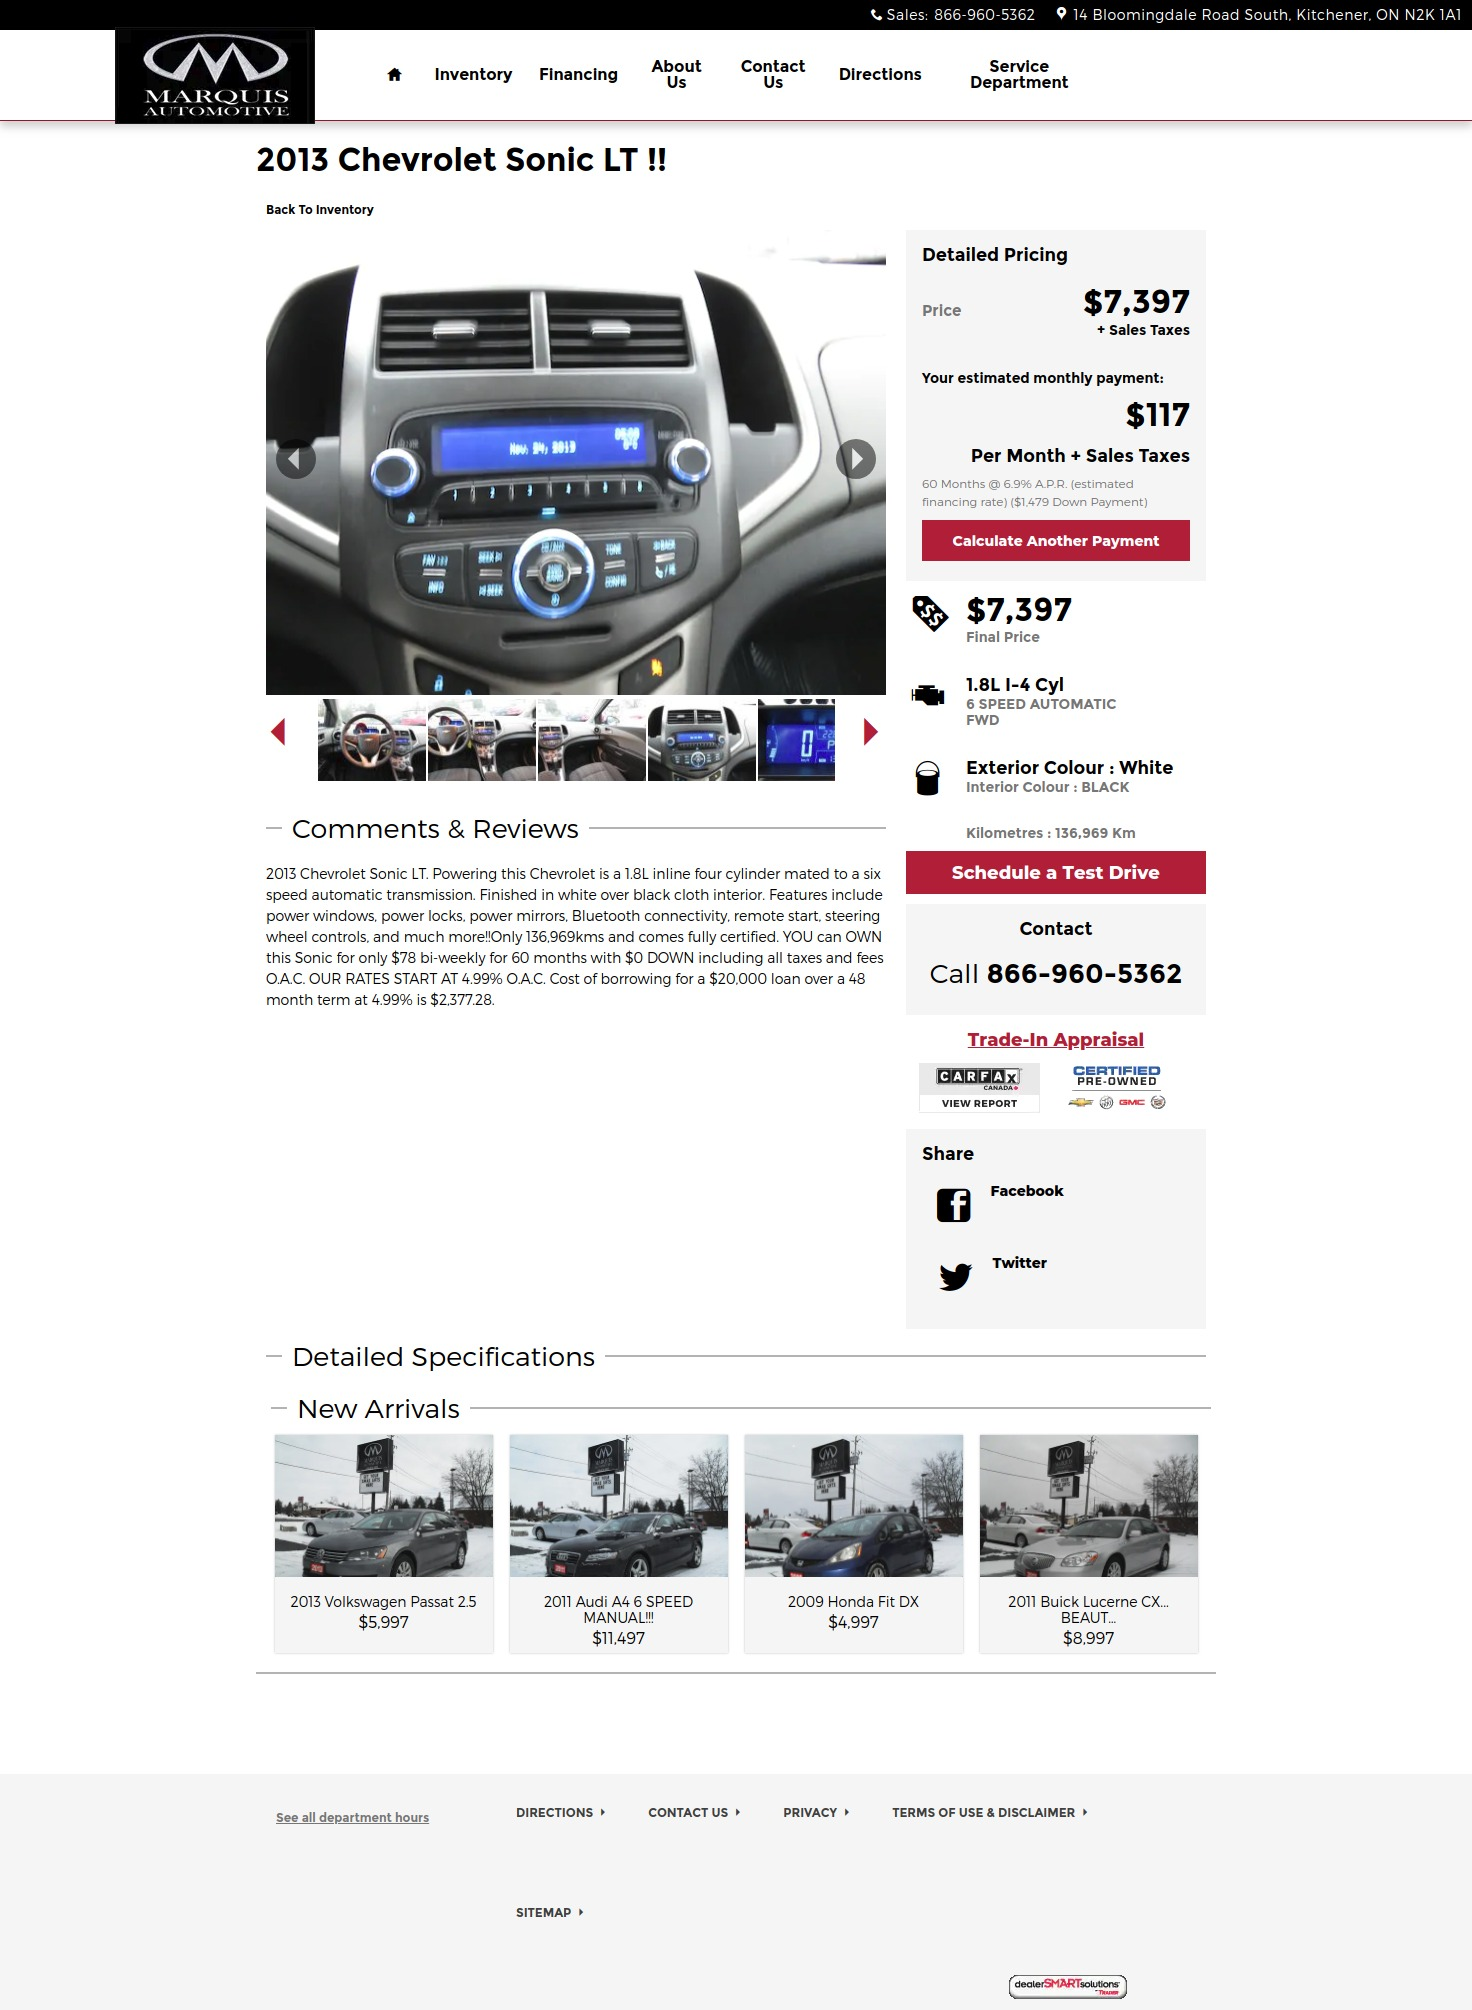car: (863, 716, 880, 748)
